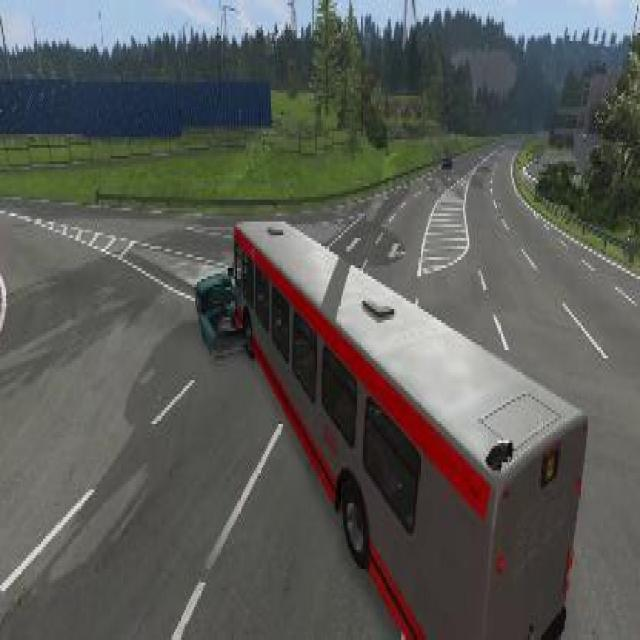accident: (188, 205, 590, 637)
